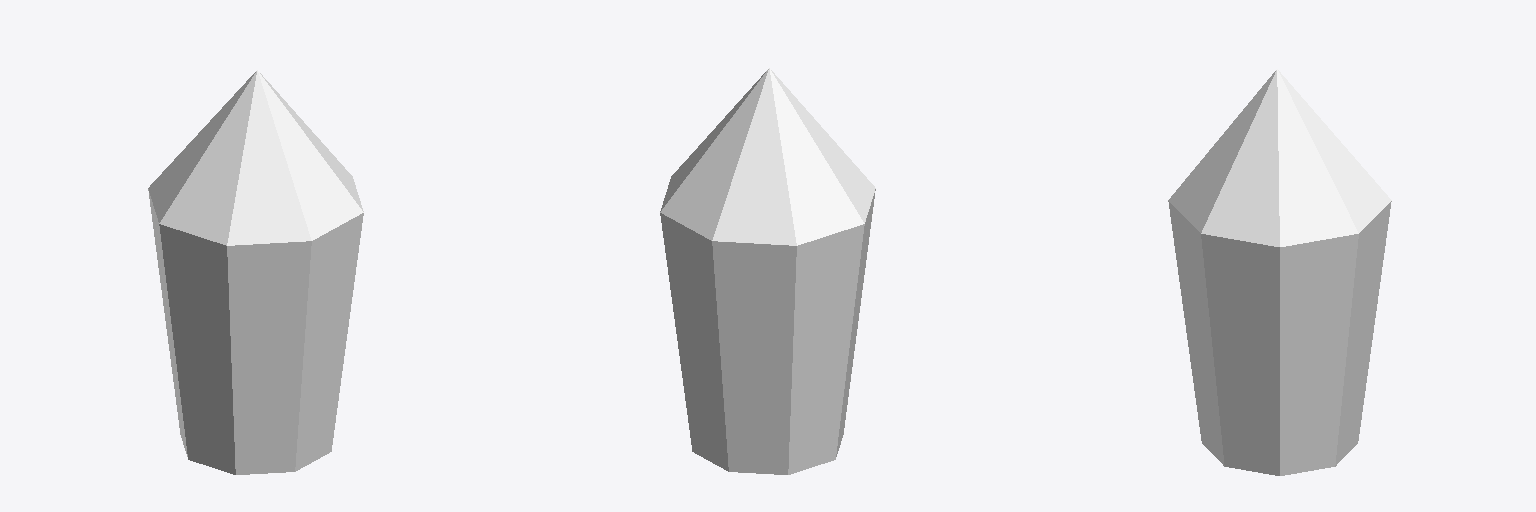
The picture shows the model from 3 angles: view 1: azimuth 30°, elevation 25°; view 2: azimuth 150°, elevation 25°; view 3: azimuth 270°, elevation 25°; orthographic projection.
Parts seen in each view (by area): view 1: cylinder; view 2: cylinder; view 3: cylinder.
Boxes of the visible parts, x1=… form: cylinder: x1=148, y1=70, x2=363, y2=474; cylinder: x1=660, y1=68, x2=875, y2=474; cylinder: x1=1168, y1=69, x2=1391, y2=475.
Bounding box in the file's own units: 0.1375 × 0.2438 × 0.1375.
Materials: 2 (2 with a texture image).